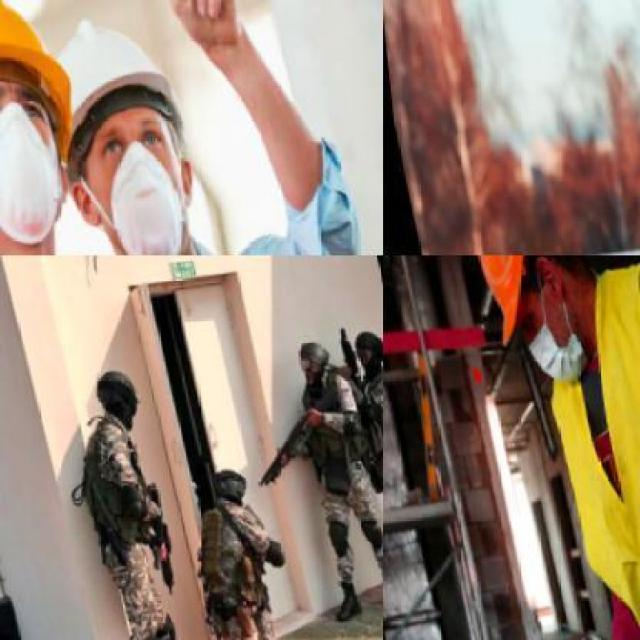vest: (522, 256, 638, 638), (177, 495, 274, 617), (62, 432, 149, 554), (288, 378, 357, 492), (342, 374, 382, 472)
